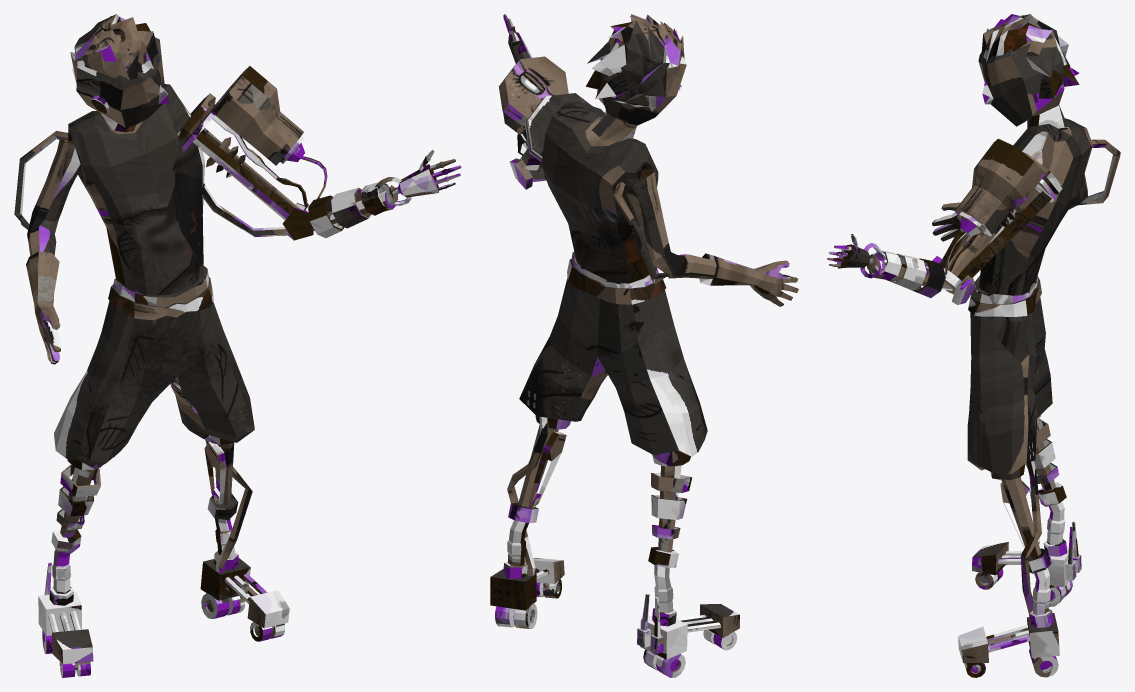
Rendered from CyborgFINALAnimation_000024.obj.
3 renders of one model, left to right at view 1: azimuth 30°, elevation 25°; view 2: azimuth 150°, elevation 25°; view 3: azimuth 270°, elevation 25°, orthographic. The views are drawn at different scales.
Parts seen in each view (by area): view 1: CyborgMesh_Cube.002; view 2: CyborgMesh_Cube.002; view 3: CyborgMesh_Cube.002.
Part boxes in pixels (x1,y1,x2,y2): CyborgMesh_Cube.002: [14, 14, 461, 677]; CyborgMesh_Cube.002: [490, 14, 798, 677]; CyborgMesh_Cube.002: [827, 14, 1120, 677].
Size of the model in its own units: 5.51 by 9.52 by 4.19.
